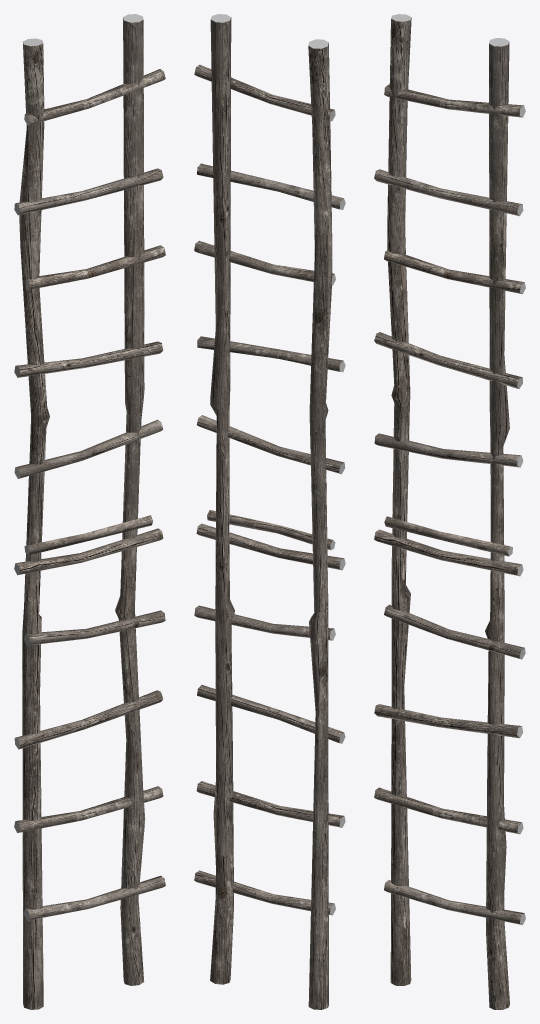
The model's file is Ladder.fbx.
3 renders of one model, left to right at view 1: azimuth 30°, elevation 25°; view 2: azimuth 150°, elevation 25°; view 3: azimuth 330°, elevation 25°, orthographic.
Parts seen in each view (by area): view 1: polySurface1377; view 2: polySurface1377; view 3: polySurface1377.
Part boxes in pixels (x1,y1,x2,y2): polySurface1377: (14,14,165,1009); polySurface1377: (194,14,345,1009); polySurface1377: (374,14,525,1009).
Bounding box in the file's own units: 0.9404 × 5.93 × 0.1682.
